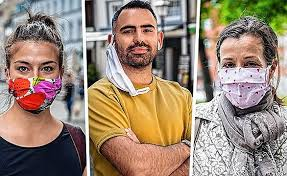with_mask: (12, 53, 60, 102), (221, 50, 266, 101)
without_mask: (121, 23, 160, 71)
